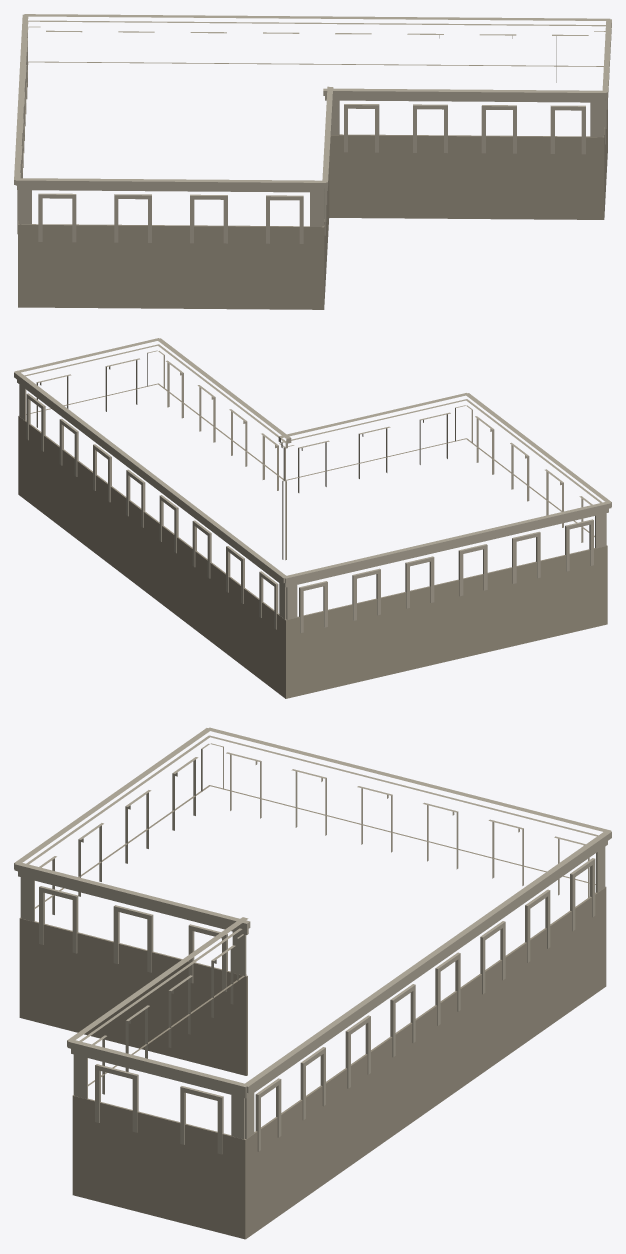
3 renders of one model, top to bottom at view 1: azimuth 30°, elevation 25°; view 2: azimuth 150°, elevation 25°; view 3: azimuth 270°, elevation 25°, orthographic. The views are drawn at different scales.
Parts seen in each view (by area): view 1: detail; view 2: detail; view 3: detail.
Part boxes in pixels (box(x1,y1,x2,y2)): detail: box(14, 14, 611, 309); detail: box(14, 338, 611, 698); detail: box(14, 727, 611, 1239).
Bounding box in the file's own units: 34.52 × 6.92 × 24.25.
